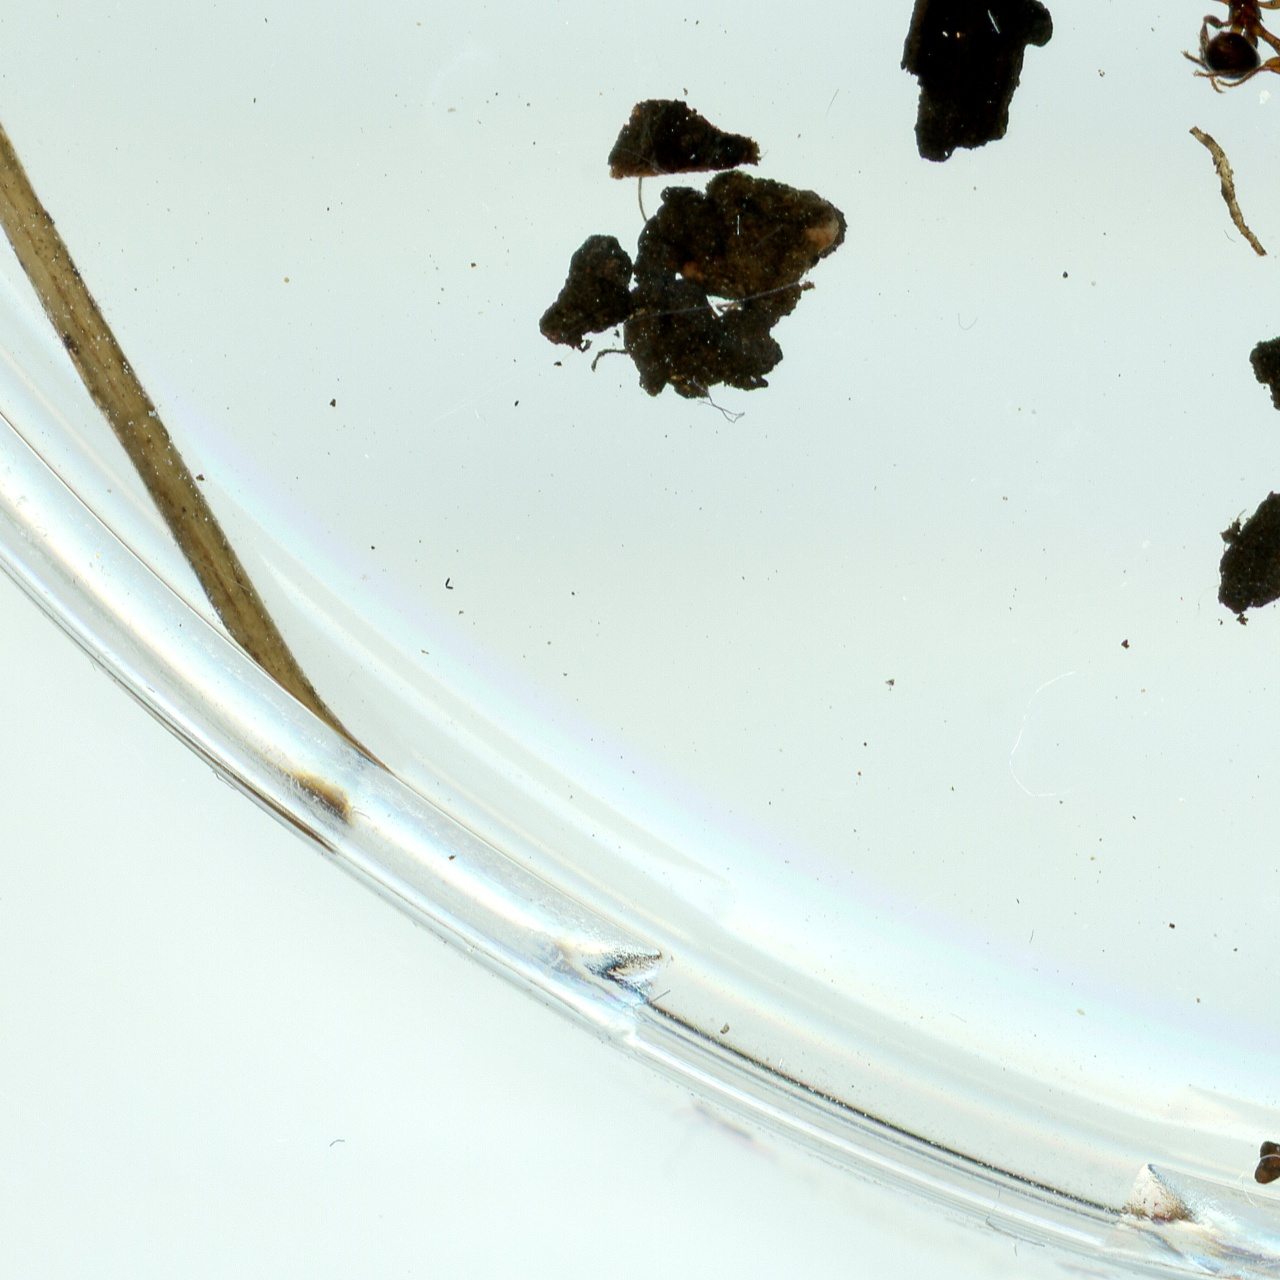arthropod: (1091, 0, 1280, 96)
